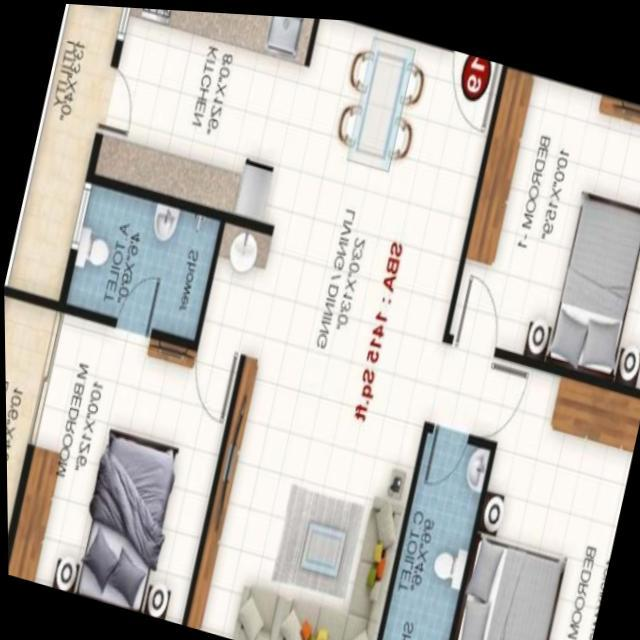Balcony-Sitout: (4, 299, 49, 504)
Bedroom: (449, 59, 640, 387), (455, 360, 640, 640)
Bedroom with Toilet: (6, 174, 240, 622)
Dining: (323, 17, 444, 202)
Enterance-Foyer: (430, 42, 505, 134)
Kitchen: (93, 6, 319, 225)
Living: (186, 353, 429, 640)
Toilet: (65, 183, 223, 340), (378, 430, 489, 640)
Utility: (11, 3, 116, 290)
